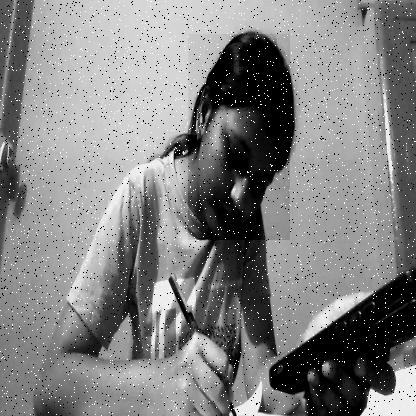Distracted: (188, 34, 290, 240)
